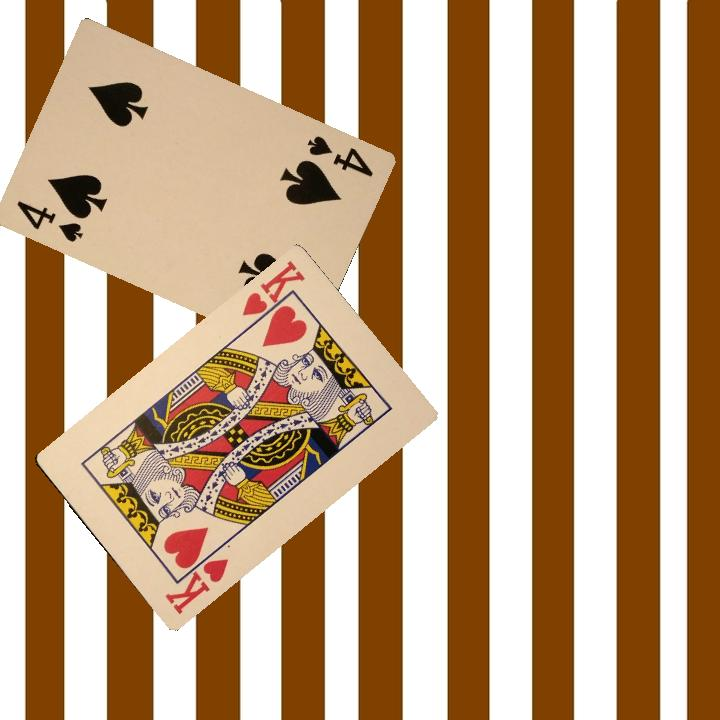4s: (12, 196, 86, 245), (303, 131, 376, 180)
Kh: (160, 543, 232, 617), (238, 256, 308, 330)
